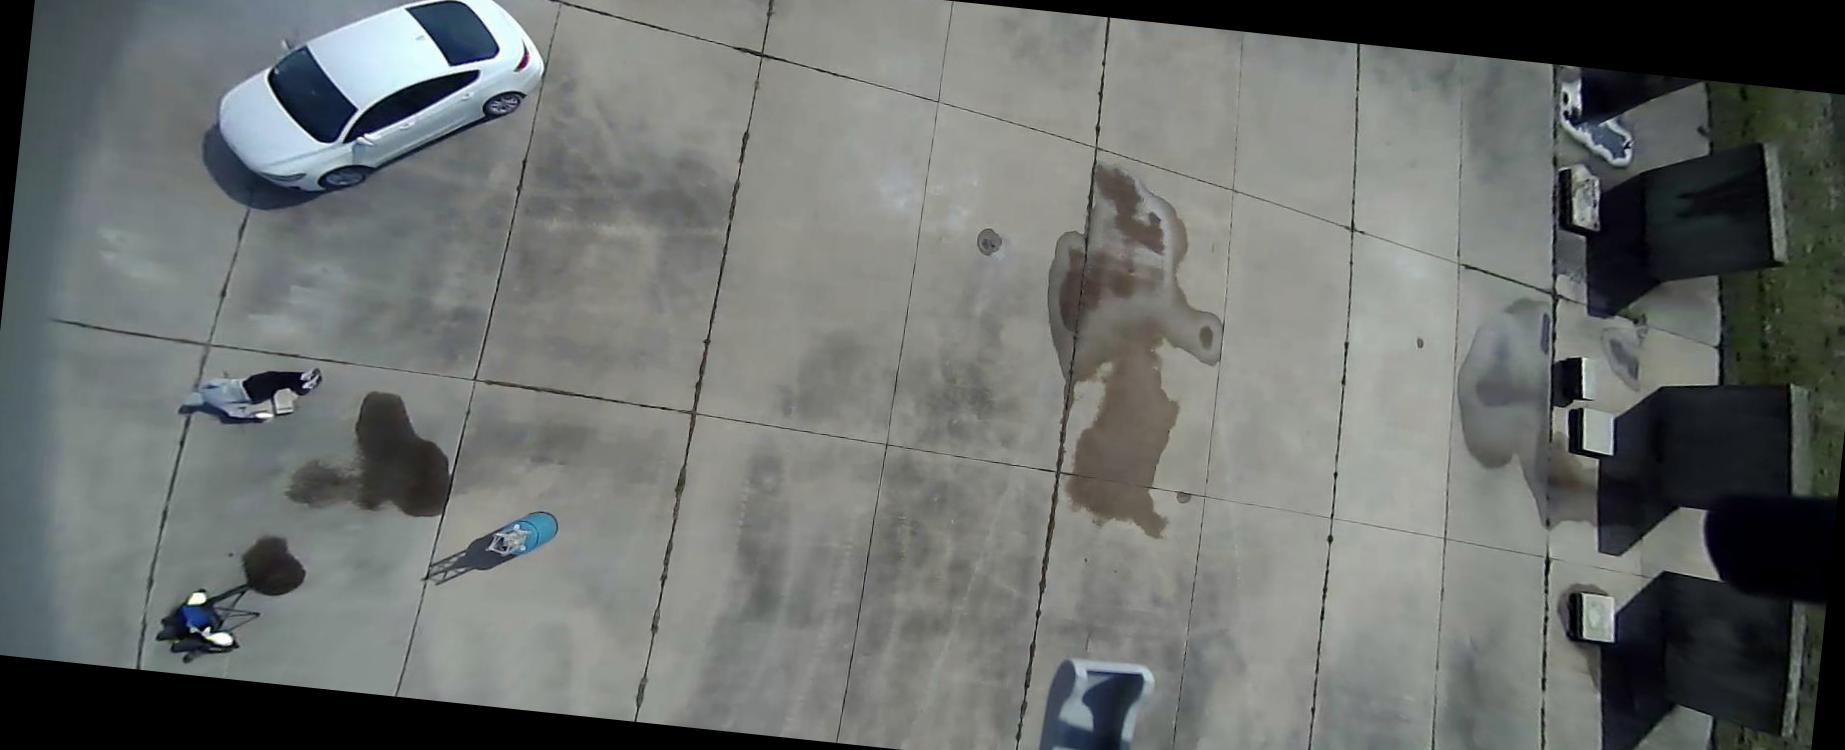vehicle: (209, 0, 553, 217)
